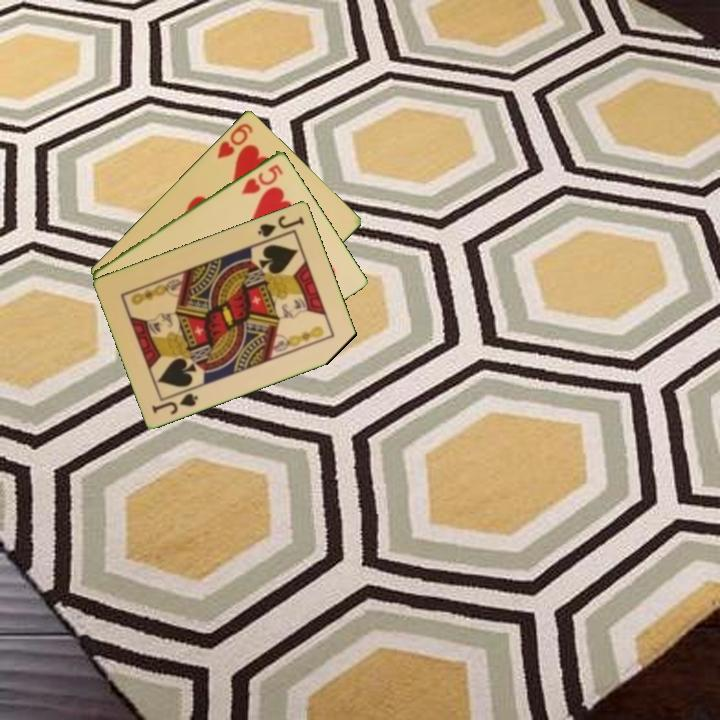5h: (238, 160, 286, 197)
6h: (213, 119, 256, 162)
Js: (148, 385, 201, 417), (254, 211, 308, 240)
